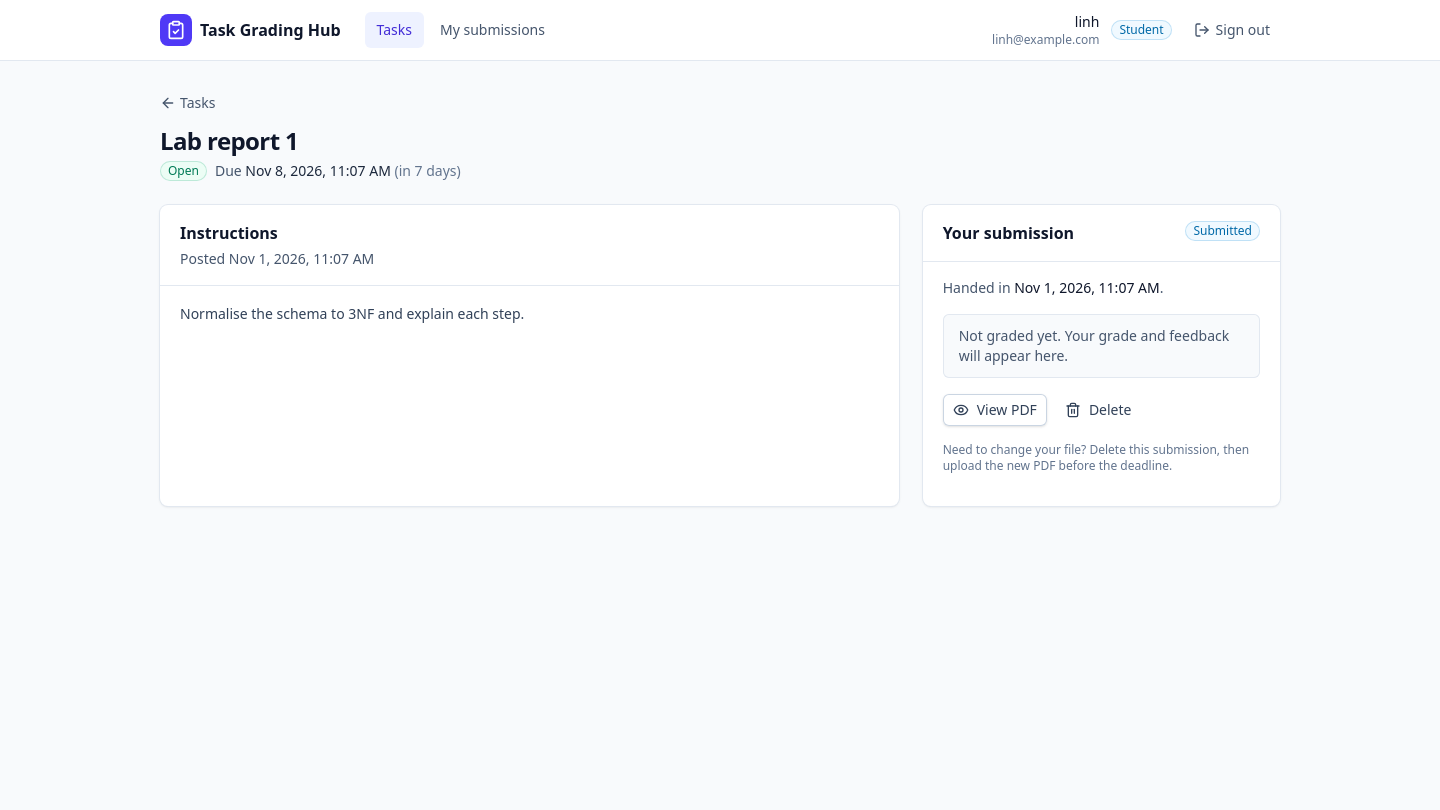
Test case: student hand-in › deletes a submission before the deadline so a new file can go in
Click the button "Delete".
click(1098, 410)  # box [1055,394,1142,426]
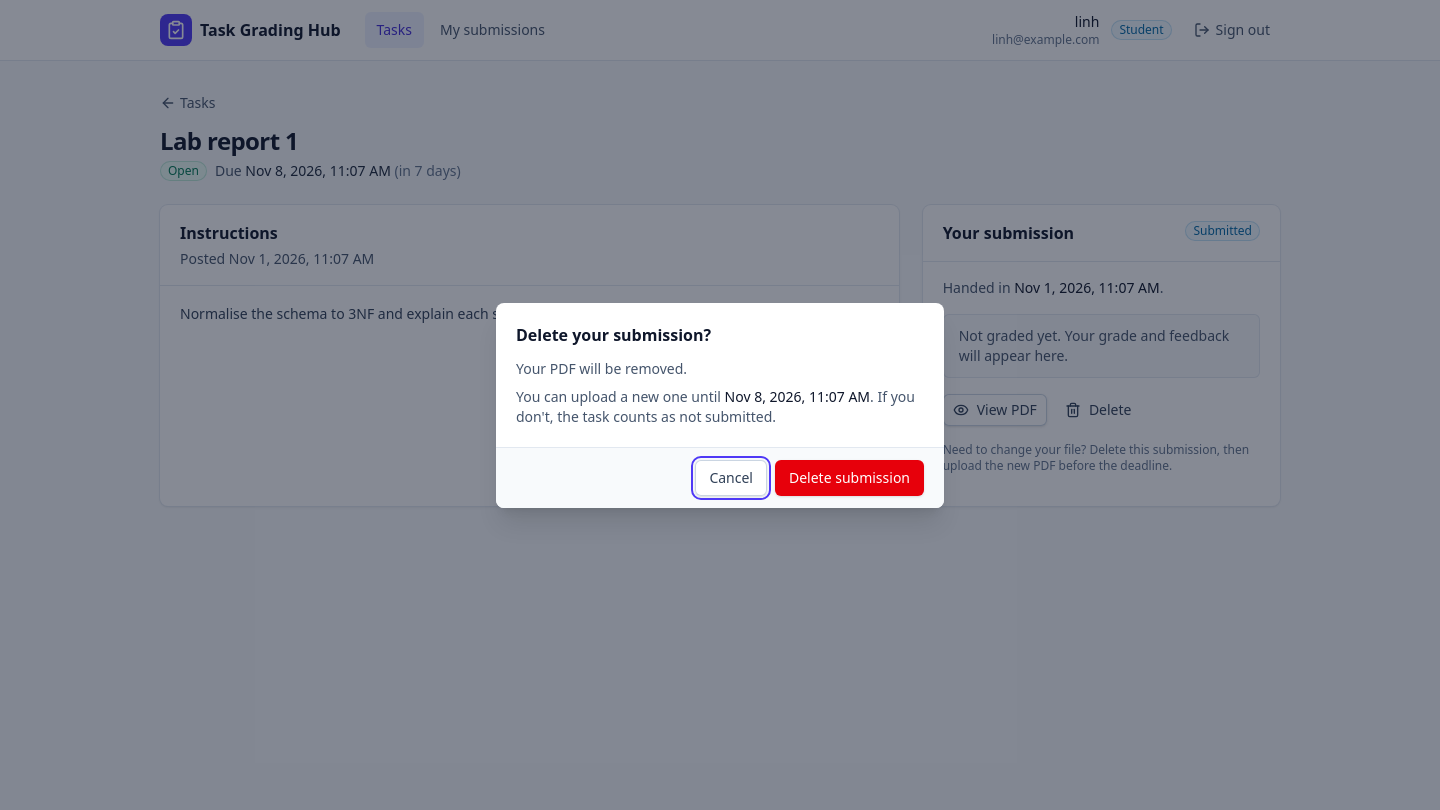
Click the button "Delete submission".
click(850, 478)  # box [775,460,924,496]
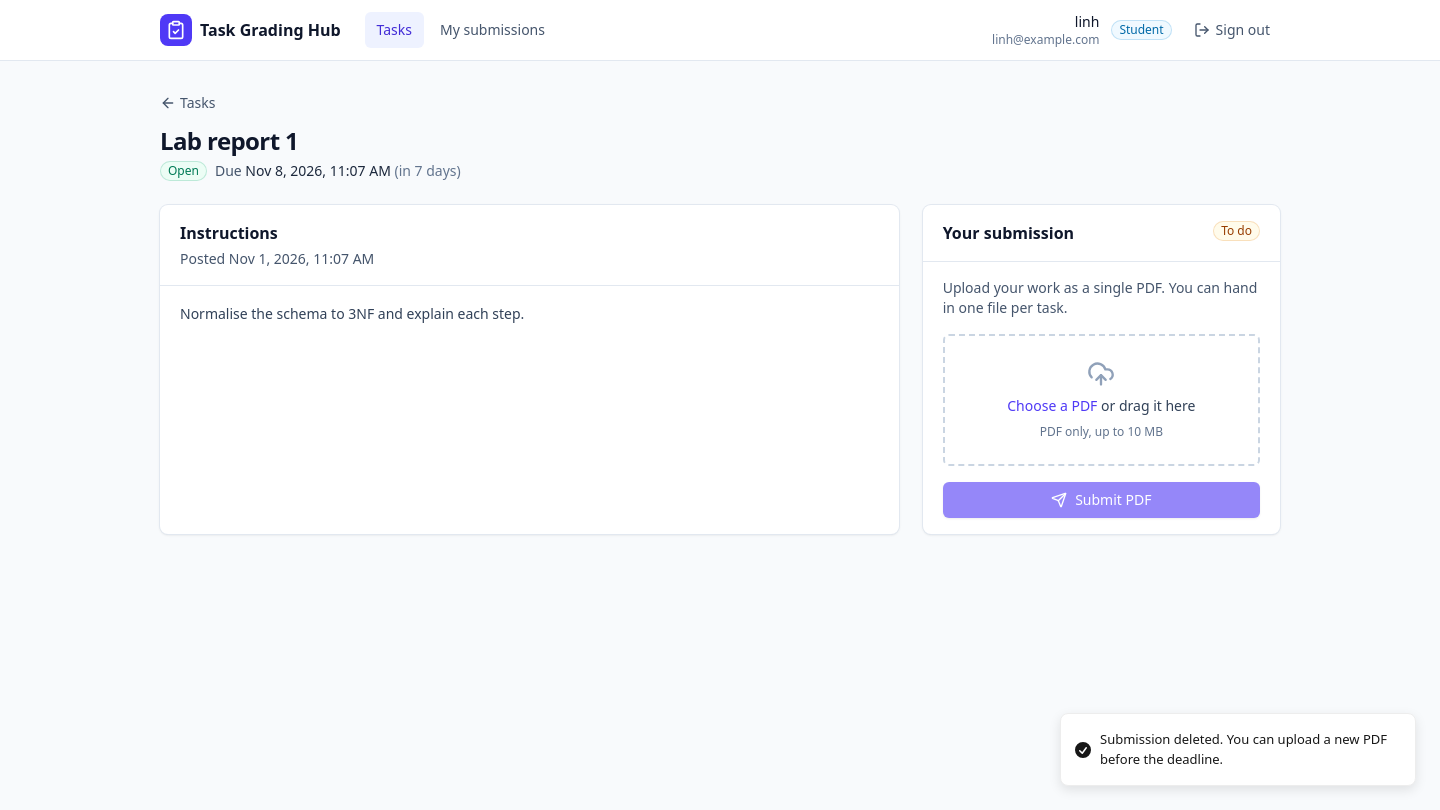
Check: the file field named "PDF file" is shown, box [943,334,1260,466]
